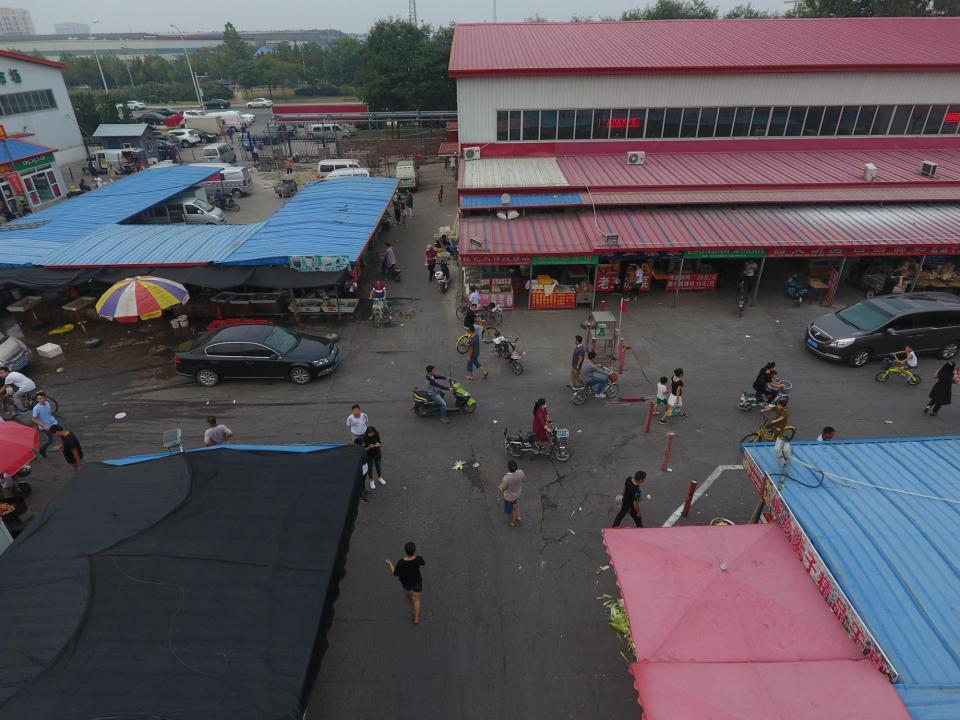car: (809, 293, 960, 368), (173, 322, 340, 386), (496, 336, 522, 375), (202, 112, 242, 132), (138, 138, 181, 154), (178, 126, 216, 144), (164, 129, 199, 147), (148, 131, 181, 149), (137, 112, 171, 125), (180, 110, 210, 124), (230, 109, 256, 124), (148, 108, 180, 119), (200, 99, 231, 110), (245, 98, 273, 109), (116, 100, 146, 110)
truck: (179, 118, 226, 138)
van: (133, 196, 230, 228), (172, 165, 254, 195), (82, 148, 136, 174), (317, 158, 367, 182), (327, 168, 376, 192), (395, 159, 420, 191), (202, 143, 237, 165), (309, 123, 350, 141)
